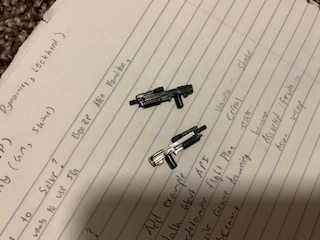rifle: (144, 123, 210, 173), (128, 83, 198, 109)
